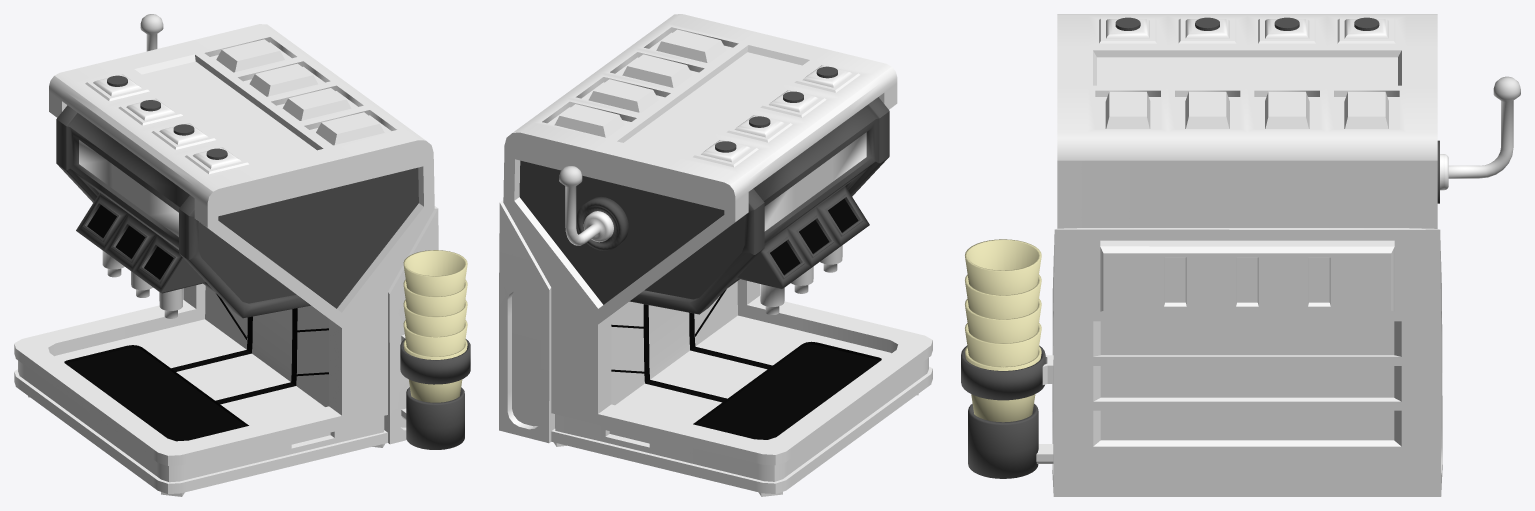
The model's file is CoffeMachine.glb.
3 renders of one model, left to right at view 1: azimuth 30°, elevation 25°; view 2: azimuth 150°, elevation 25°; view 3: azimuth 270°, elevation 25°, orthographic. The views are drawn at different scales.
Visible parts, largest first — view 1: Cube.001, Cube.005, Cube.004, Cube.002, Cube.003, Cube.006; view 2: Cube.001, Cube.005, Cube.004, Cube.006; view 3: Cube.001, Cube.002, Cube.003, Cube.006.
Part boxes in pixels (bbox=[...]): Cube.001: bbox=[14, 24, 438, 496]; Cube.005: bbox=[56, 105, 310, 318]; Cube.004: bbox=[48, 309, 324, 441]; Cube.002: bbox=[403, 250, 467, 356]; Cube.003: bbox=[400, 339, 470, 449]; Cube.006: bbox=[140, 14, 163, 51]; Cube.001: bbox=[499, 14, 932, 496]; Cube.005: bbox=[629, 97, 889, 314]; Cube.004: bbox=[615, 305, 897, 439]; Cube.006: bbox=[559, 166, 628, 250]; Cube.001: bbox=[1036, 14, 1442, 496]; Cube.002: bbox=[965, 239, 1041, 366]; Cube.003: bbox=[961, 345, 1045, 478]; Cube.006: bbox=[1437, 76, 1520, 203].
Bounding box in the file's own units: 3.68 × 3.83 × 5.2.
